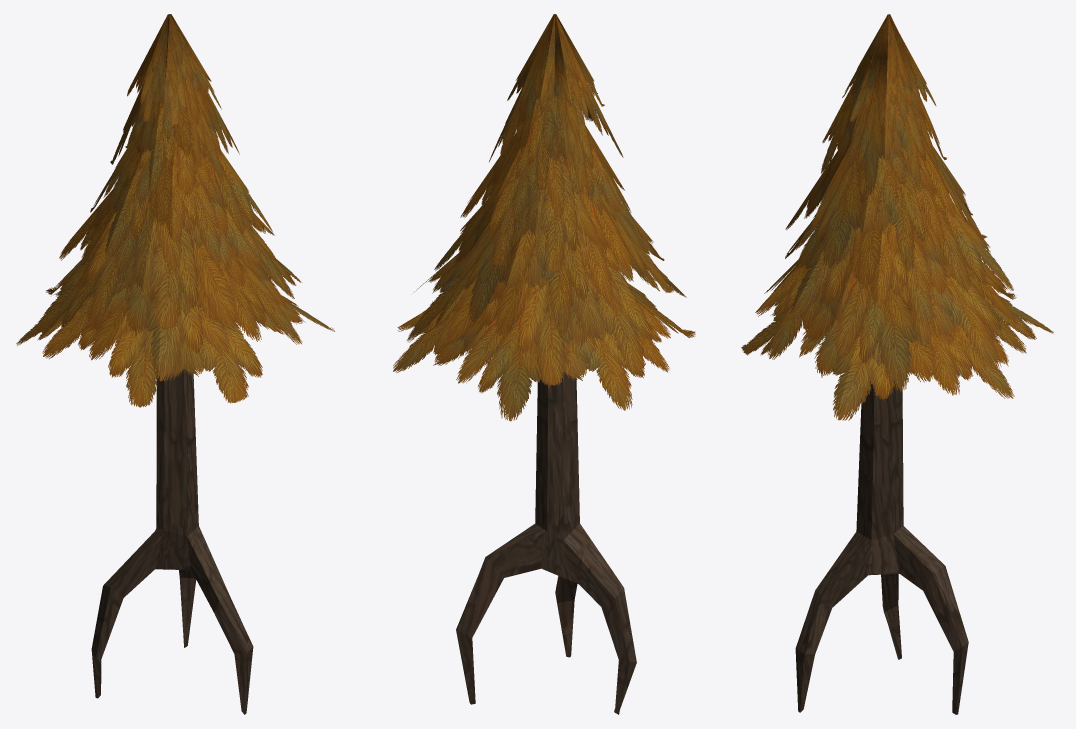
The model's file is spruceTree.fbx.
The picture shows the model from 3 angles, left to right: view 1: azimuth 30°, elevation 25°; view 2: azimuth 150°, elevation 25°; view 3: azimuth 270°, elevation 25°; orthographic projection.
Visible parts, largest first — view 1: spruceBranches_complete01.001; view 2: spruceBranches_complete01.001; view 3: spruceBranches_complete01.001.
Part boxes in pixels (box(x1,y1,x2,y2)): spruceBranches_complete01.001: box(16, 14, 334, 714); spruceBranches_complete01.001: box(393, 14, 695, 714); spruceBranches_complete01.001: box(741, 14, 1053, 714).
Bounding box in the file's own units: 7.11 × 15.65 × 6.83.
